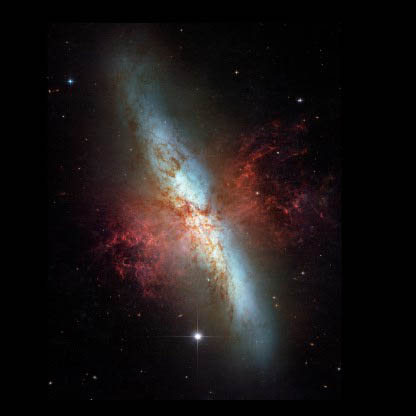Messier 82: (80, 36, 318, 375)
